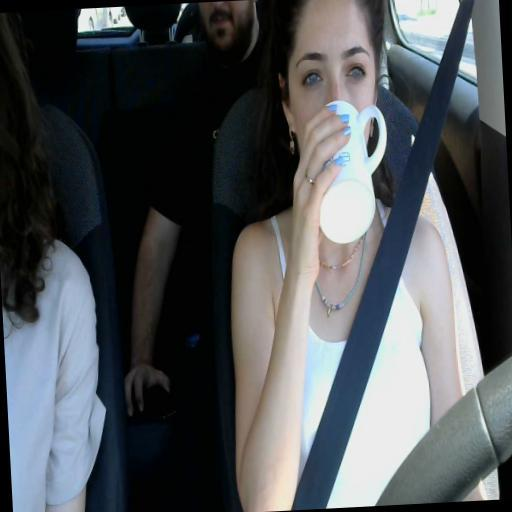Drinking: (279, 0, 389, 242)
